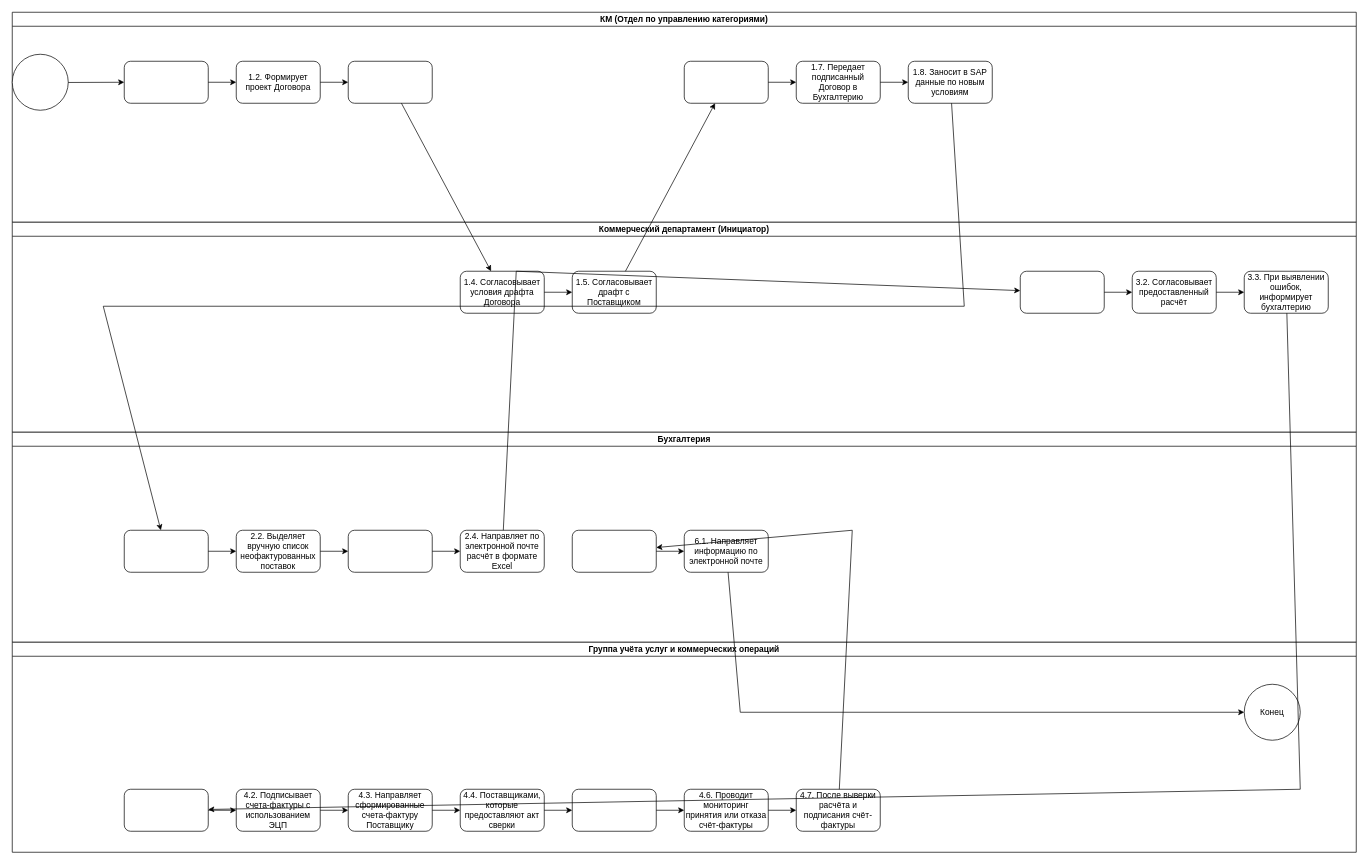
This 1369x865 diagram has some shape labels left out. Here are the shapes that lost their labels. From the top down, the centre of each, then its label:
At point 40,82: "Начало".
At point 166,82: "1.1. Определяет коммерческие условия".
At point 390,82: "1.3. Формирует проект дополнительного соглашения".
At point 726,82: "1.6. Подписывает согласованный Договор".
At point 1062,292: "3.1. Проводит проверку предоставленного расчета".
At point 166,551: "2.1. Запускает формирование выгрузки по ретро-бонусам".
At point 390,551: "2.3. Выгружает финальный отчёт".
At point 614,551: "5.1. Осуществляет контроль".
At point 166,810: "4.1. Выставляет счета-фактуры Поставщику".
At point 614,810: "4.5. По результатам сверки с Поставщиком вносит необходимые корректировки".
